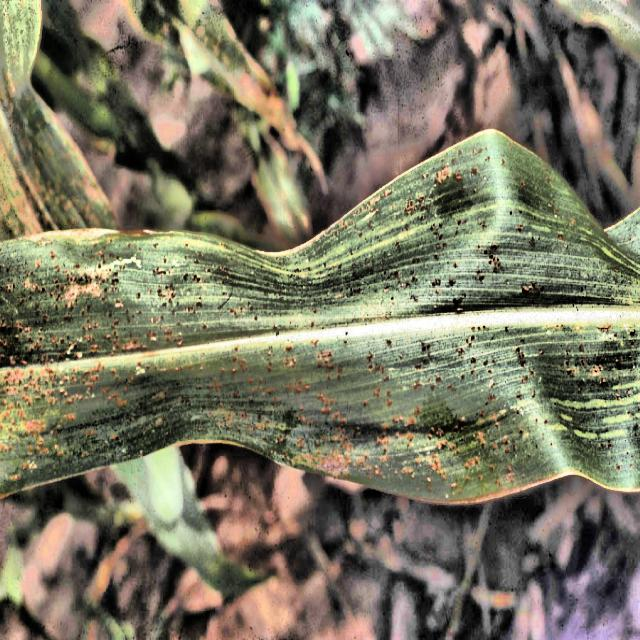common_rust: (2, 117, 614, 521)
